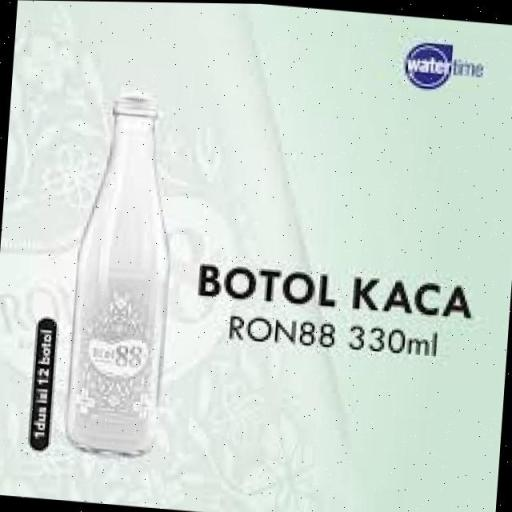plastic: (68, 84, 186, 462)
